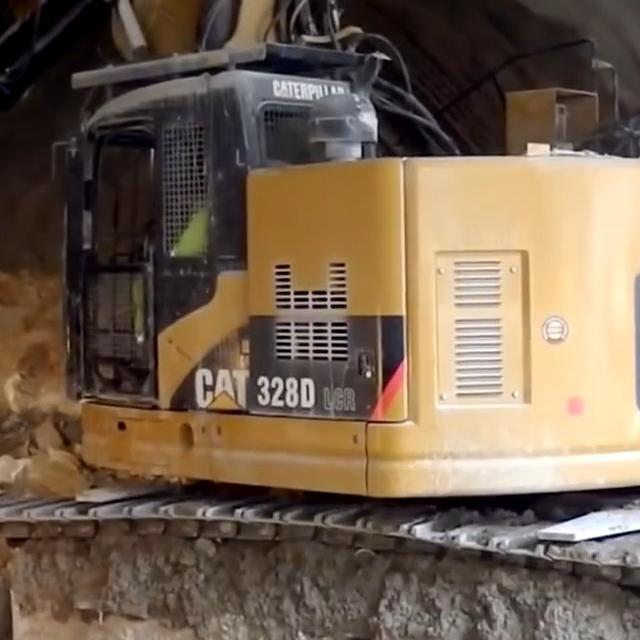Excavator: (0, 0, 640, 640)
Person: (136, 165, 214, 338)
Safety Vest: (174, 200, 212, 257)
